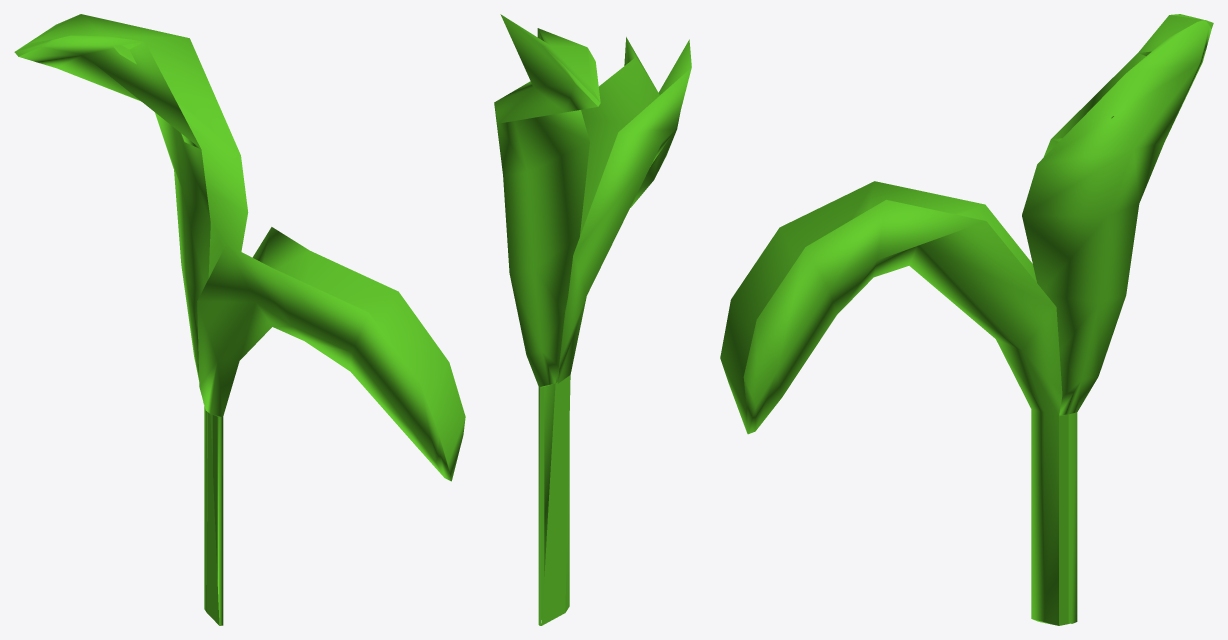
Rendered from corn1.fbx.
3 views of the same model, side by side, from view 1: azimuth 30°, elevation 25°; view 2: azimuth 150°, elevation 25°; view 3: azimuth 270°, elevation 25° (orthographic). The views are drawn at different scales.
Visible parts, largest first — view 1: corn stage 1; view 2: corn stage 1; view 3: corn stage 1.
Part boxes in pixels (left/top/right/bottom): corn stage 1: left=14, top=14, right=465, bottom=625; corn stage 1: left=494, top=14, right=691, bottom=625; corn stage 1: left=720, top=14, right=1213, bottom=625.
Bounding box in the file's own units: 11.9 × 29.78 × 23.34.
